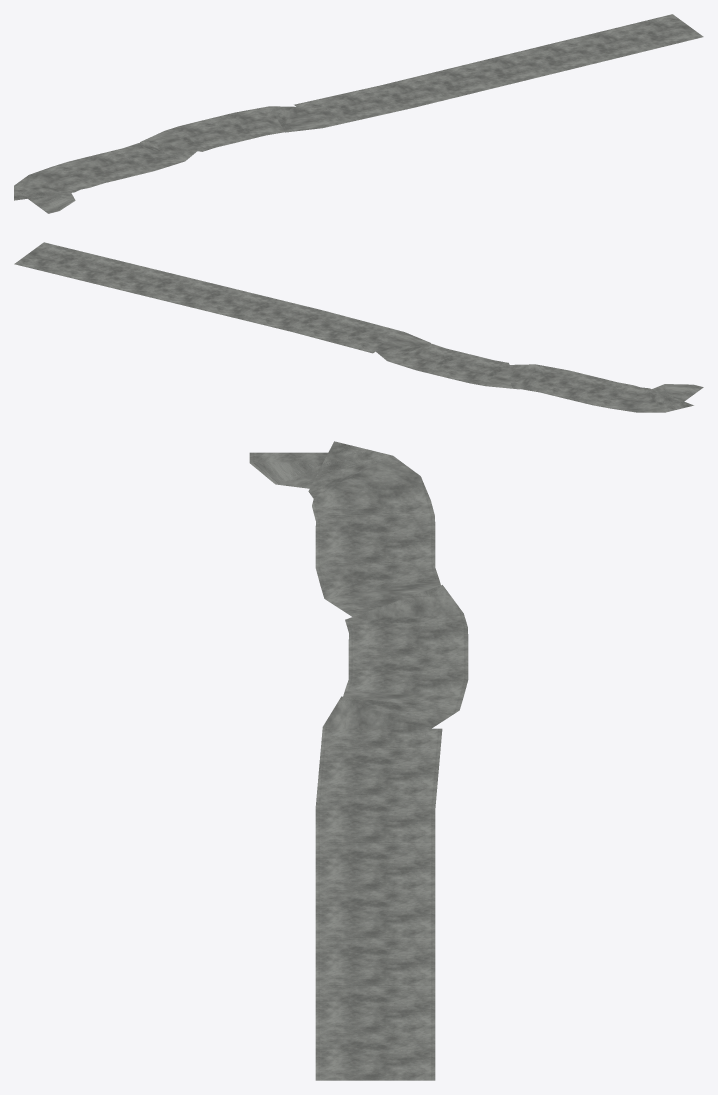
The model's file is RD-ROAD-025.obj.
The picture shows the model from 3 angles, top to bottom: view 1: azimuth 30°, elevation 25°; view 2: azimuth 150°, elevation 25°; view 3: azimuth 270°, elevation 25°; orthographic projection. The views are drawn at different scales.
Visible parts, largest first — view 1: RD-ROAD-025; view 2: RD-ROAD-025; view 3: RD-ROAD-025.
Part boxes in pixels (x1=…): RD-ROAD-025: x1=14, y1=14, x2=703, y2=213; RD-ROAD-025: x1=14, y1=242, x2=703, y2=412; RD-ROAD-025: x1=249, y1=441, x2=468, y2=1080.
Size of the model in its own units: 53.69 by 0 by 7.77.
Materials: 1 (1 with a texture image).
